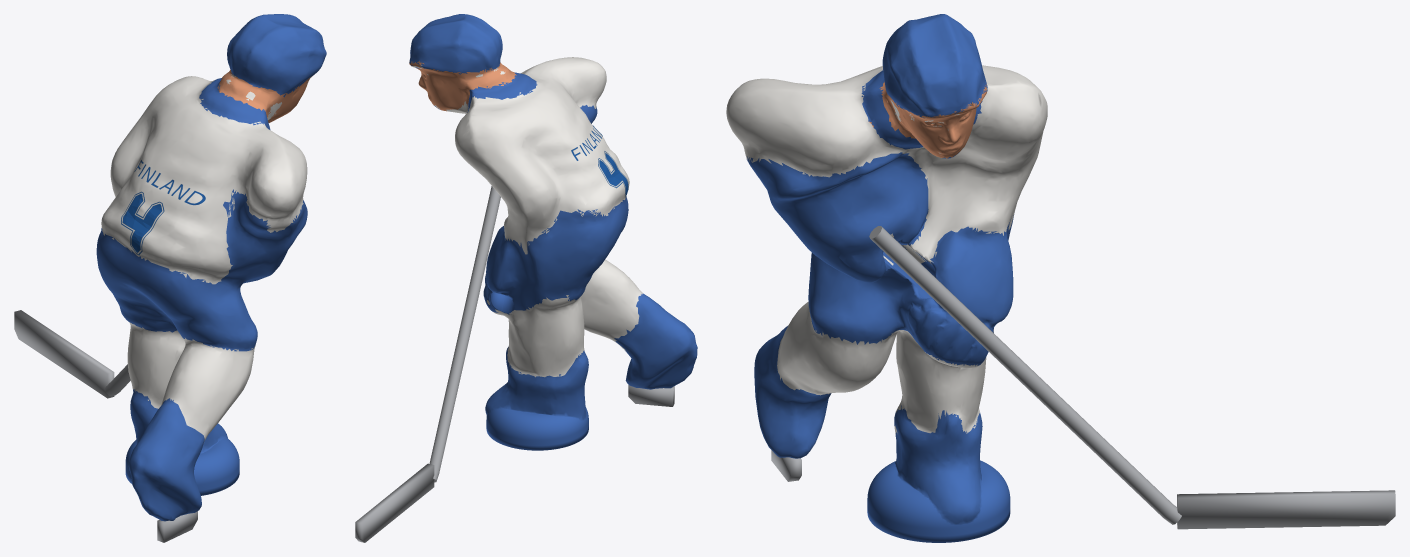
File: skater_stl_FIN.glb
3 views of the same model, side by side, from view 1: azimuth 30°, elevation 25°; view 2: azimuth 150°, elevation 25°; view 3: azimuth 270°, elevation 25° (orthographic). The views are drawn at different scales.
Parts seen in each view (by area): view 1: Skater.FIN, Print.skater.FIN; view 2: Skater.FIN, Print.skater.FIN; view 3: Skater.FIN.
Part boxes in pixels (bbox=[...]): Skater.FIN: bbox=[14, 14, 326, 542]; Print.skater.FIN: bbox=[121, 160, 205, 255]; Skater.FIN: bbox=[355, 14, 697, 542]; Print.skater.FIN: bbox=[571, 125, 628, 198]; Skater.FIN: bbox=[726, 14, 1395, 542].
Bounding box in the file's own units: 0.0345 × 0.0574 × 0.0637.
Materials: 5 (1 with a texture image).
